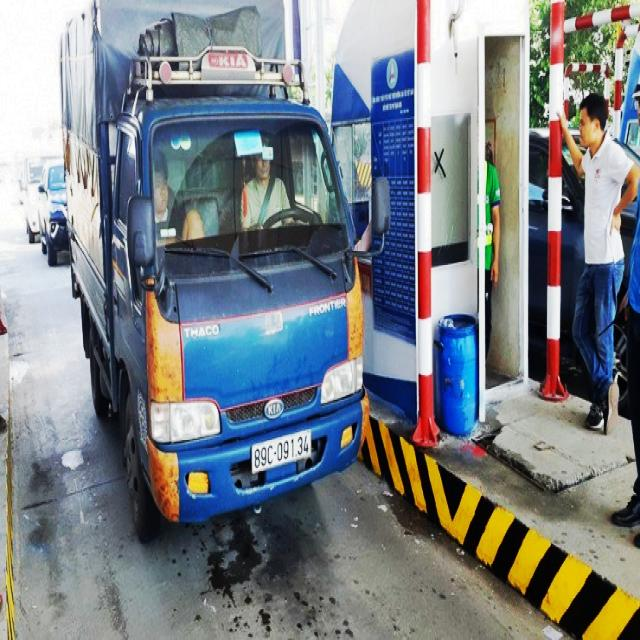license_plate: (253, 430, 312, 475)
